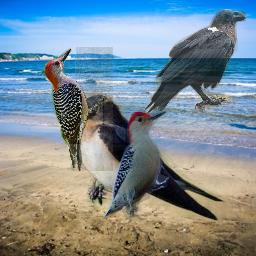Crow: (143, 9, 246, 114)
Swallow: (63, 91, 225, 226)
Woodpecker: (40, 47, 113, 171), (102, 109, 169, 220)
